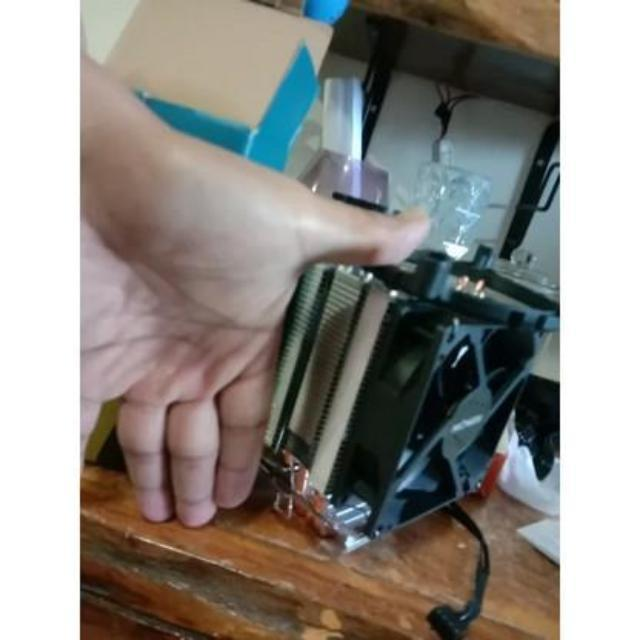CPU_Fan: (248, 254, 546, 556)
